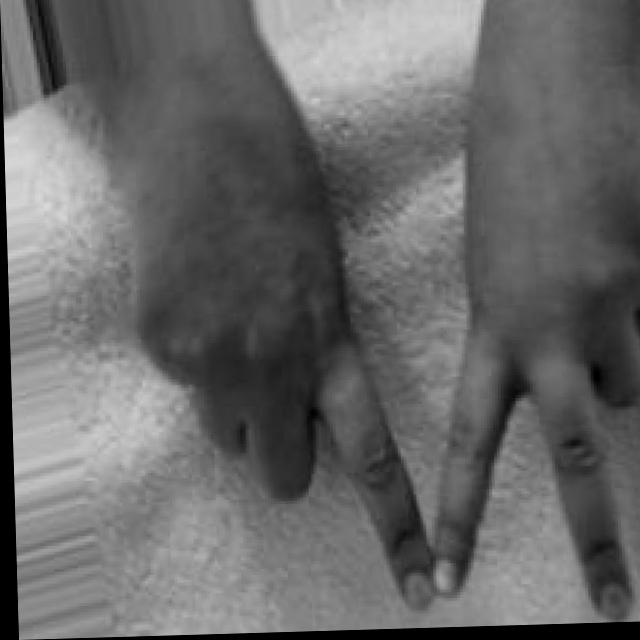N: (124, 144, 640, 636)
